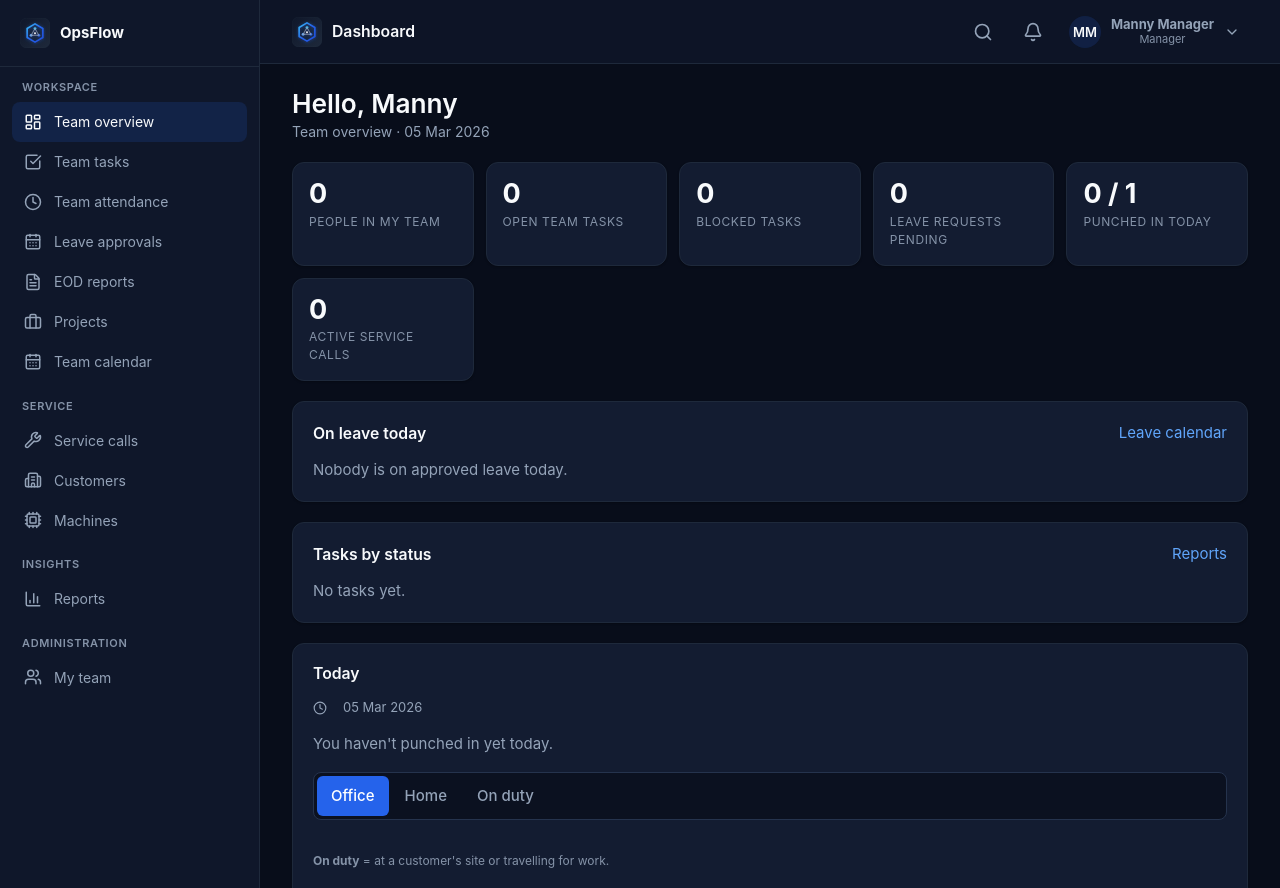
Test: Notification centre (header) › has an empty state
The width and height of the screenshot is (1280, 888).
Click the button named "Notifications". click: (1033, 32)
box: [1011,10,1055,54]
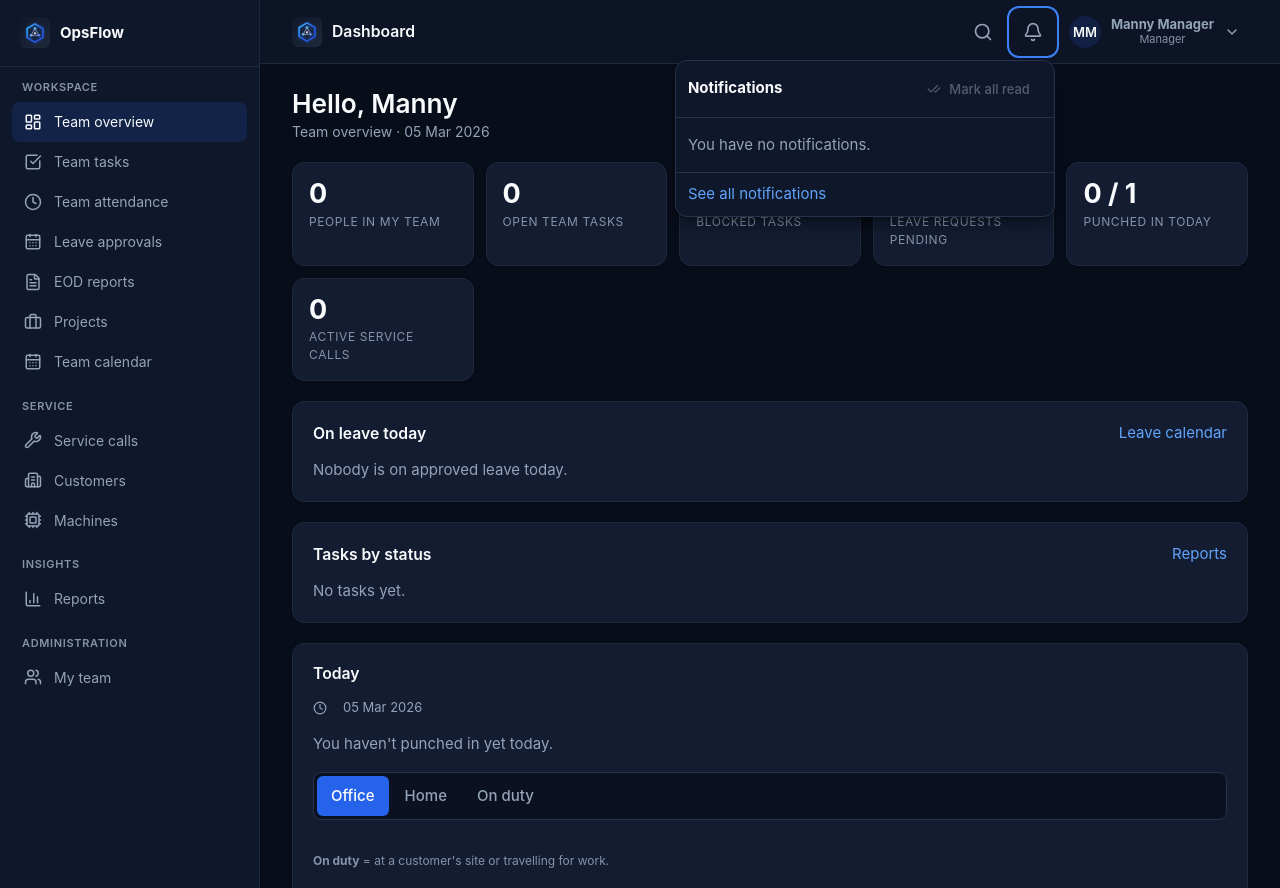
Result: the text "You have no notifications." is shown at [688,134,871,154]
